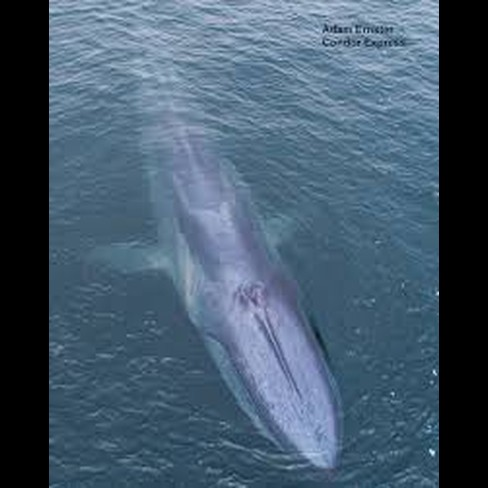bluewhale: (71, 1, 352, 480)
